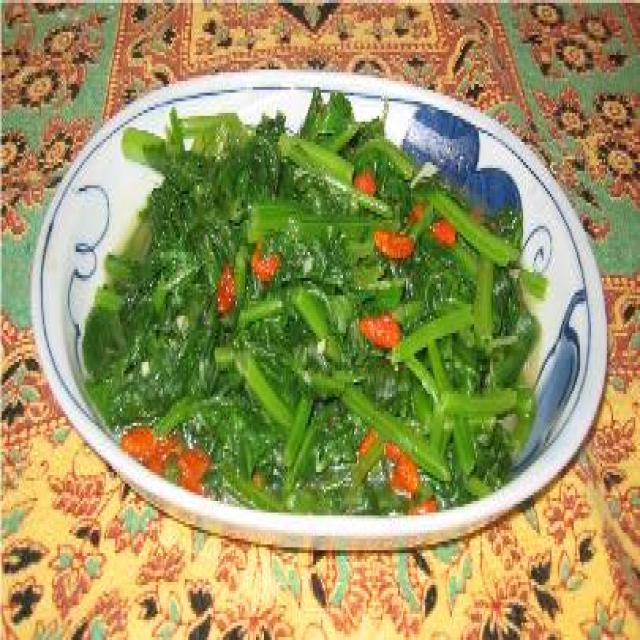蔬菜料理: (49, 84, 580, 547)
